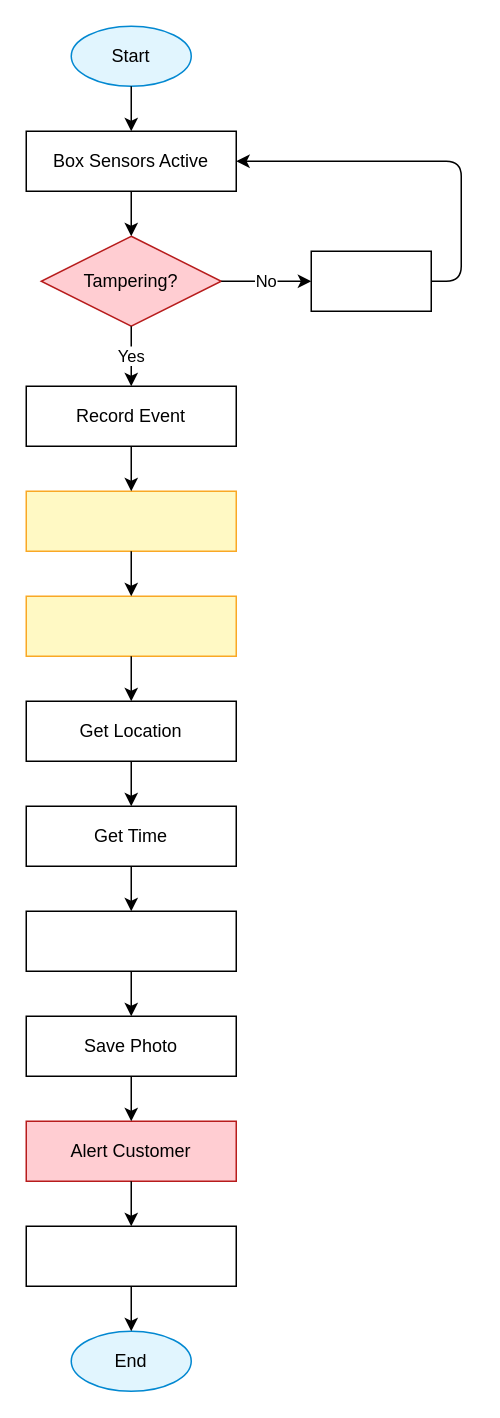
The diagram is 500 pixels wide and 1418 high, and some of its shapes have lost their labels. Here are the shapes that lost their labels. From the top down, the centre of each, then its label:
At point (370, 280): "Wait".
At point (130, 520): "Turn On Camera".
At point (130, 625): "Take Photo".
At point (130, 940): "Send to Server".
At point (130, 1255): "Customer Sees Photo".
